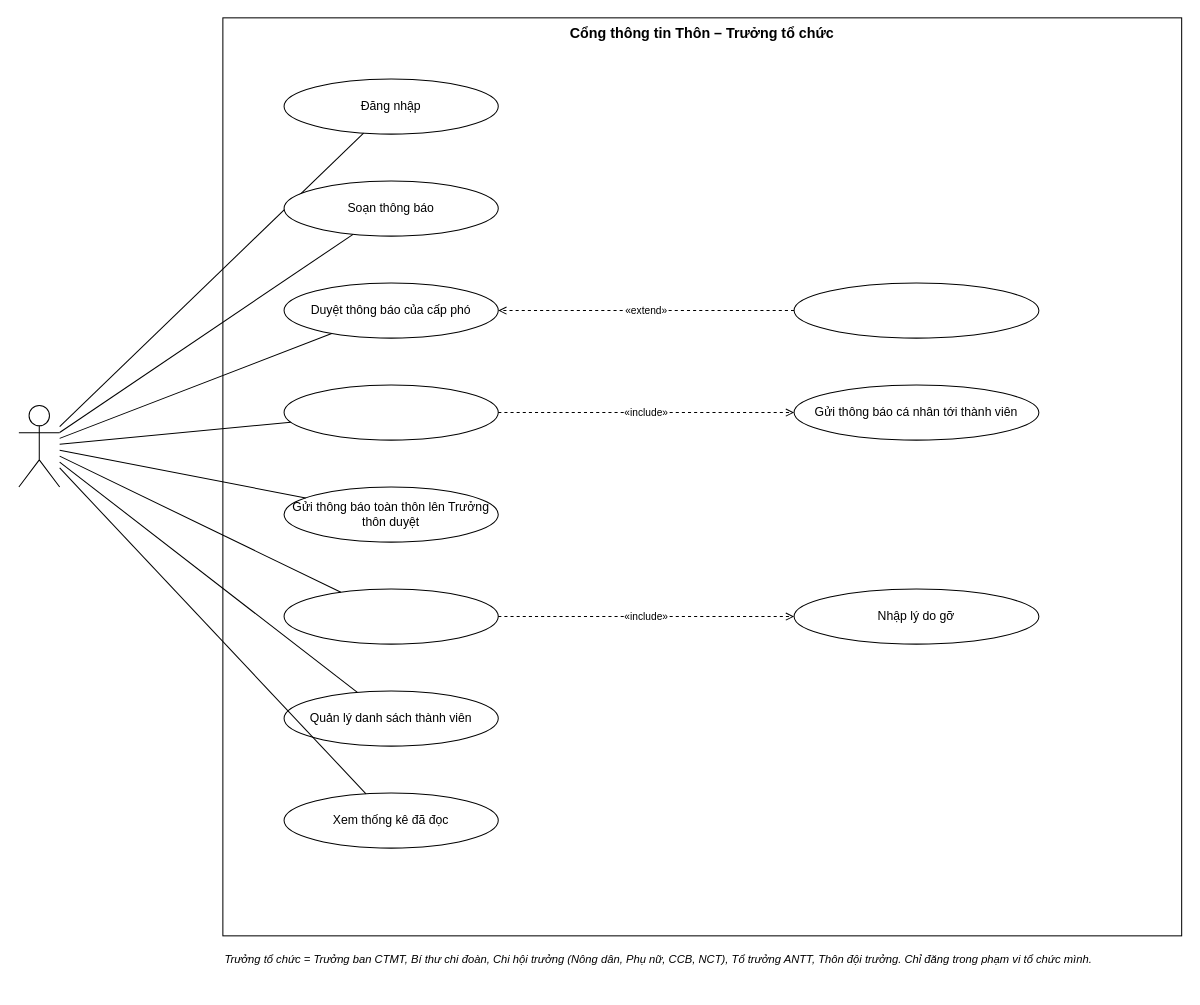
The diagram is 1200 pixels wide and 1005 high, and some of its shapes have lost their labels. The box of each missing label's shape, as (x1, y1, x2, y2) in pixels:
Gỡ thông báo: (283, 588, 498, 644)
Trưởng tổ chức: (18, 404, 60, 487)
Từ chối (nhập lý do): (793, 282, 1039, 338)
Đăng thông báo cho thành viên tổ chức: (283, 384, 498, 440)
